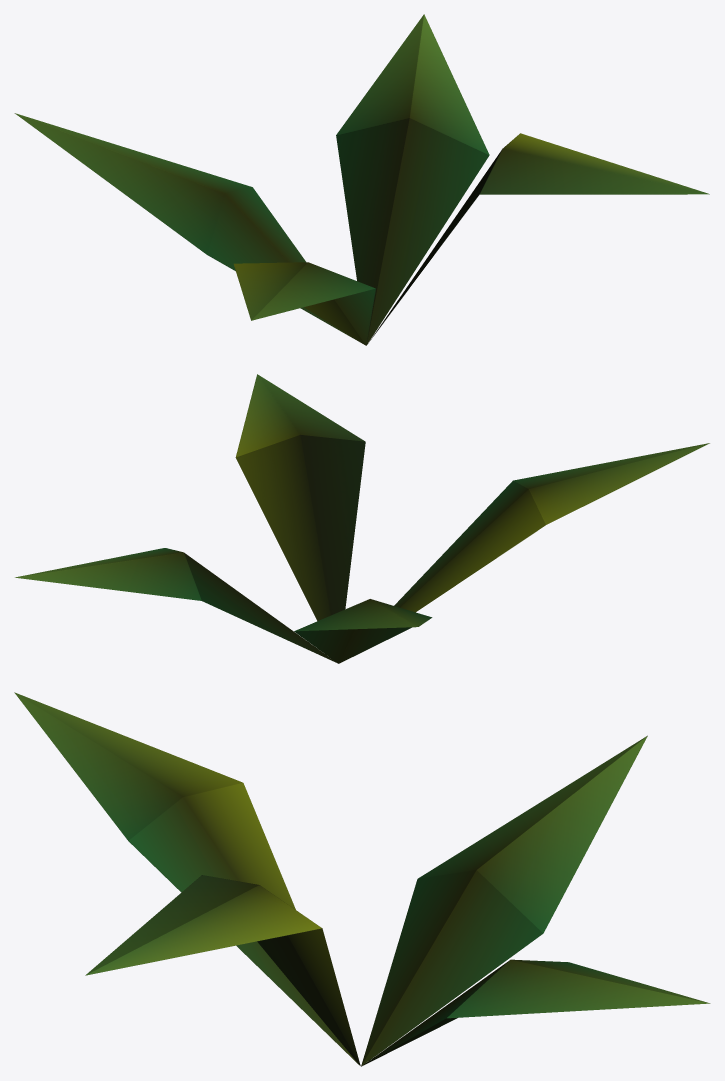
The model's file is fern 1.fbx.
3 renders of one model, top to bottom at view 1: azimuth 30°, elevation 25°; view 2: azimuth 150°, elevation 25°; view 3: azimuth 270°, elevation 25°, orthographic. The views are drawn at different scales.
Visible parts, largest first — view 1: Plane; view 2: Plane; view 3: Plane.
Boxes of the visible parts, x1=… form: Plane: x1=14, y1=14, x2=709, y2=345; Plane: x1=15, y1=374, x2=709, y2=663; Plane: x1=14, y1=692, x2=710, y2=1066.
Size of the model in its own units: 177 by 71.7 by 197.
